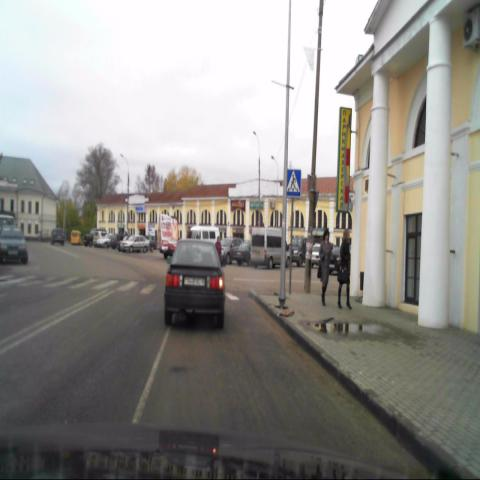5_19_1: (286, 168, 301, 197)
